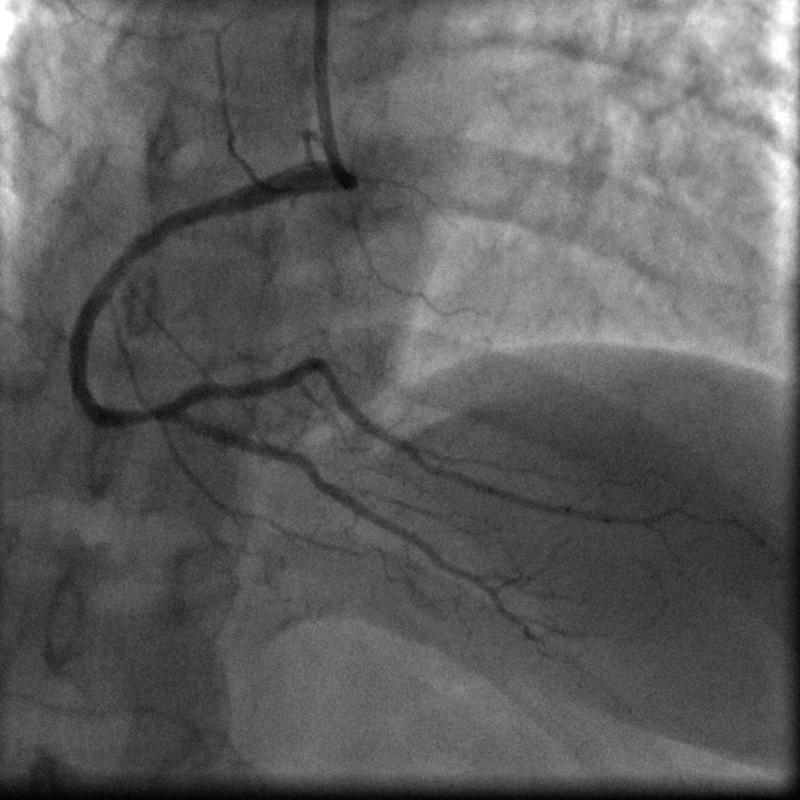Stenosis: (128, 402, 166, 427)
